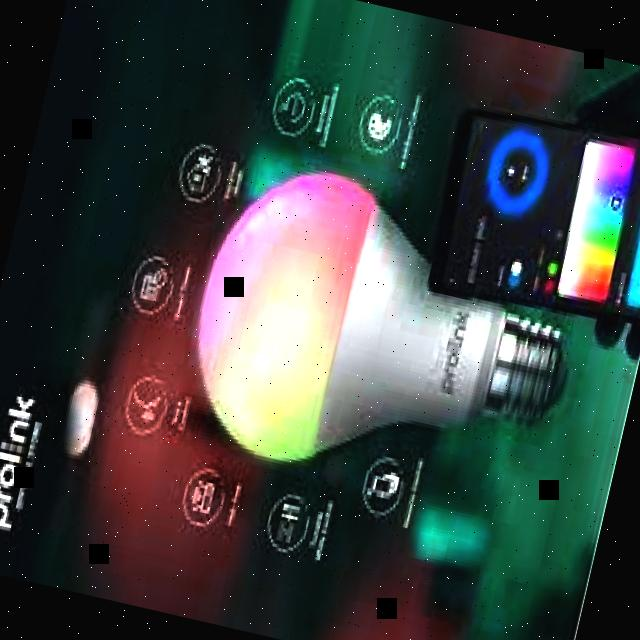light_bulb: (150, 123, 610, 547)
